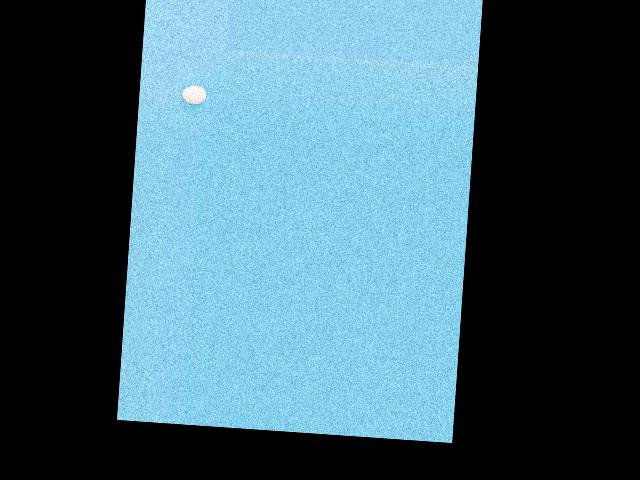egg: (181, 84, 207, 104)
